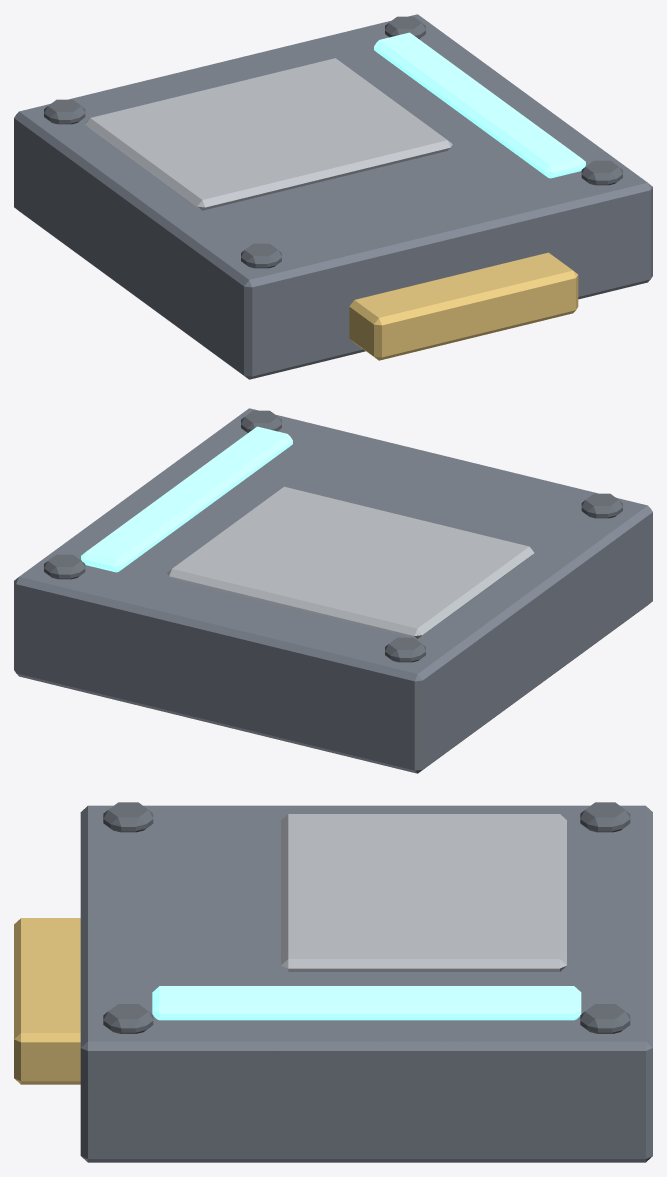
File: data_drive.glb
The picture shows the model from 3 angles, top to bottom: view 1: azimuth 30°, elevation 25°; view 2: azimuth 150°, elevation 25°; view 3: azimuth 270°, elevation 25°; orthographic projection. The views are drawn at different scales.
Visible parts, largest first — view 1: data_drive; view 2: data_drive; view 3: data_drive.
Part boxes in pixels (left/top/right/bottom): data_drive: left=14, top=14, right=652, bottom=379; data_drive: left=14, top=408, right=652, bottom=773; data_drive: left=14, top=802, right=652, bottom=1162.
Size of the model in its own units: 0.12 by 0.0315 by 0.134.
